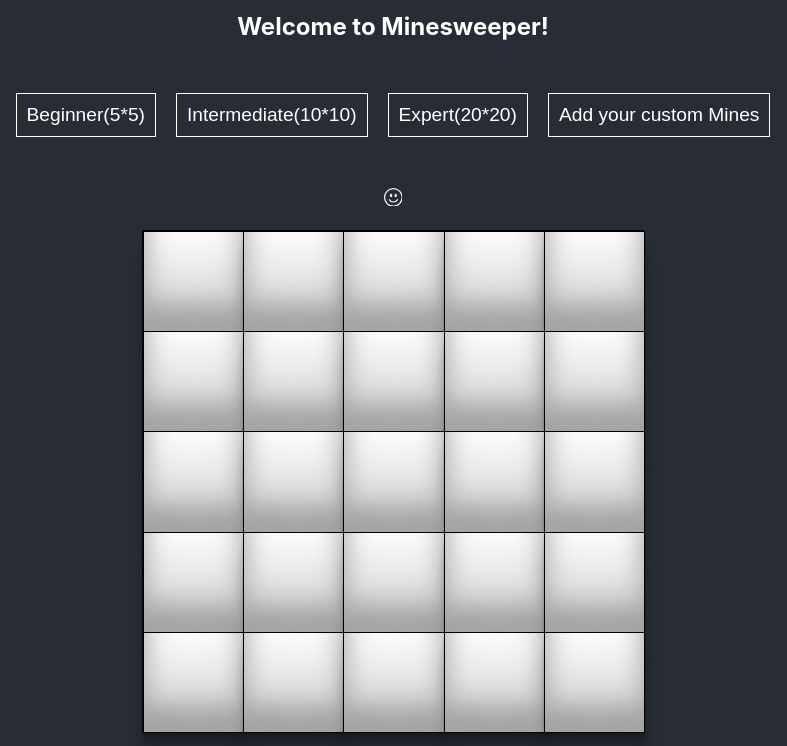
Test: Mine Sweeper › should render 20*20 board when Expert button click
Click the button "Expert(20*20)".
click(458, 115)  # box top-left (388, 93), bottom-right (528, 137)
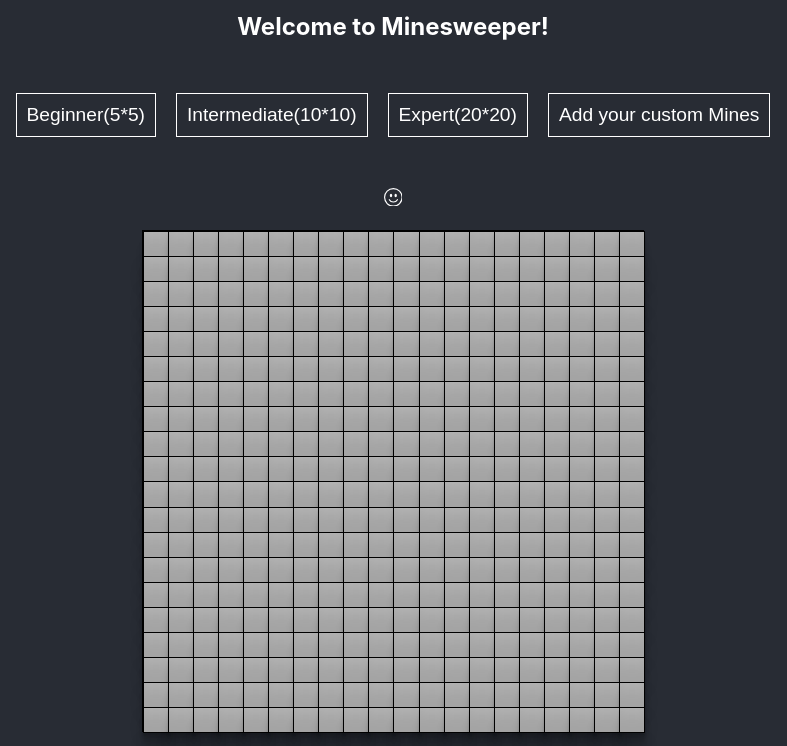
Check: the number of elements with test id "board-cell" is 400
